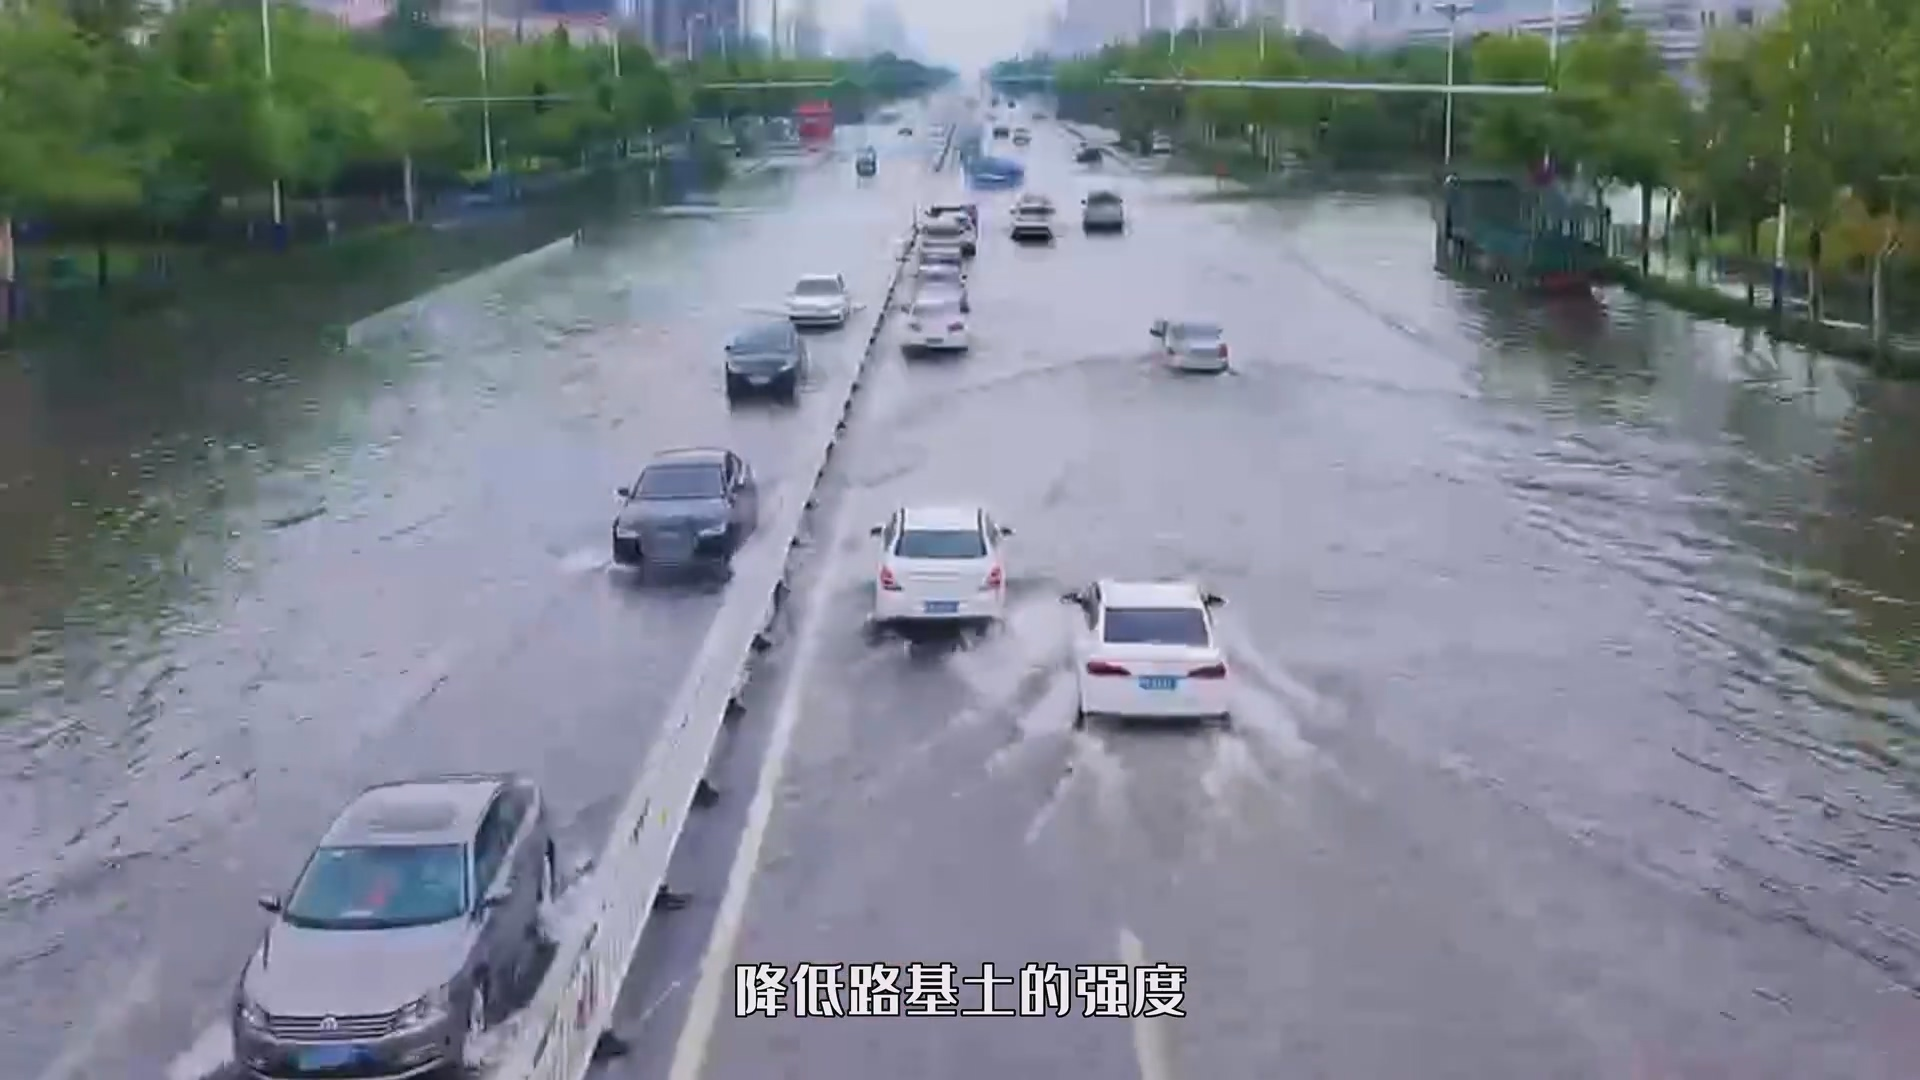puddle: (1, 301, 1920, 1080)
